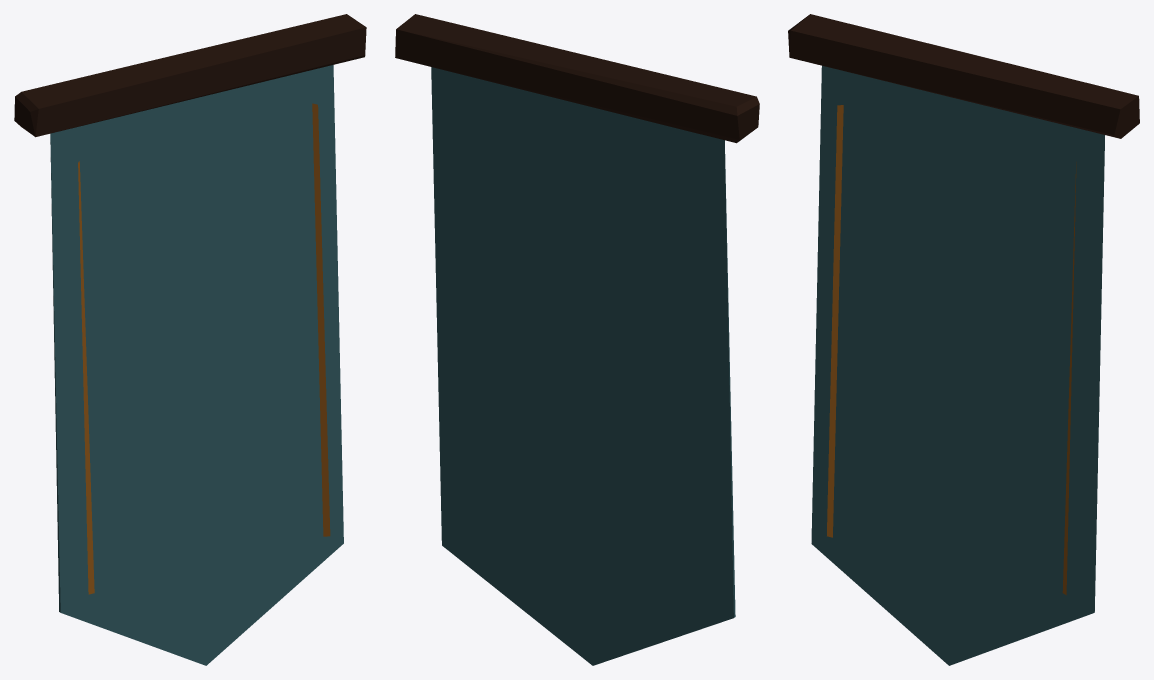
The model's file is Estandarte_de_tecido_LOD1.fbx.
3 views of the same model, side by side, from view 1: azimuth 30°, elevation 25°; view 2: azimuth 150°, elevation 25°; view 3: azimuth 330°, elevation 25° (orthographic). The views are drawn at different scales.
Parts seen in each view (by area): view 1: Estandarte_de_tecido_LOD1; view 2: Estandarte_de_tecido_LOD1; view 3: Estandarte_de_tecido_LOD1.
Boxes of the visible parts, x1,y1,x2,y2 form: Estandarte_de_tecido_LOD1: [14, 14, 366, 665]; Estandarte_de_tecido_LOD1: [395, 14, 759, 665]; Estandarte_de_tecido_LOD1: [788, 14, 1139, 665].
Bounding box in the file's own units: 99.17 × 169 × 14.86.
Materials: 1 (1 with a texture image).
